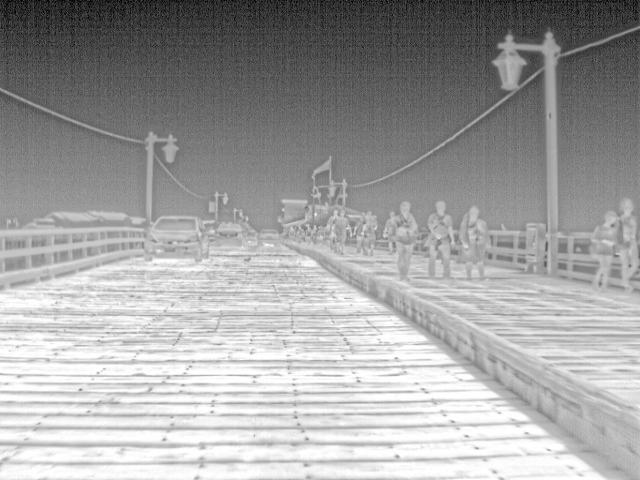car: (142, 212, 211, 260), (213, 222, 249, 245), (256, 224, 288, 247)
person: (457, 206, 496, 280), (422, 200, 458, 276), (612, 198, 639, 290), (388, 198, 418, 274), (588, 213, 617, 288), (332, 209, 353, 252), (381, 210, 398, 254), (362, 212, 378, 257), (352, 215, 367, 256), (303, 224, 315, 247)
